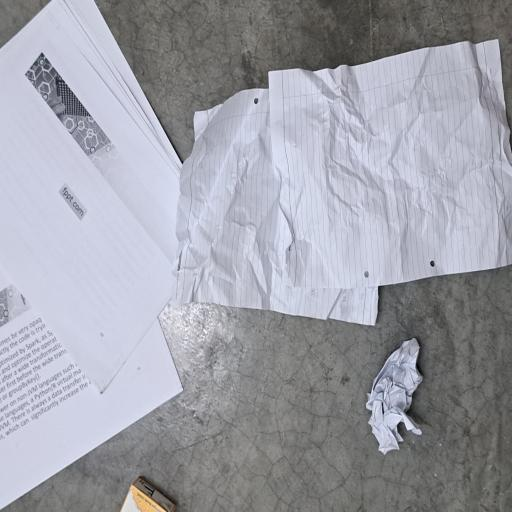paper: (0, 0, 384, 249), (139, 230, 355, 512), (44, 487, 130, 512)
